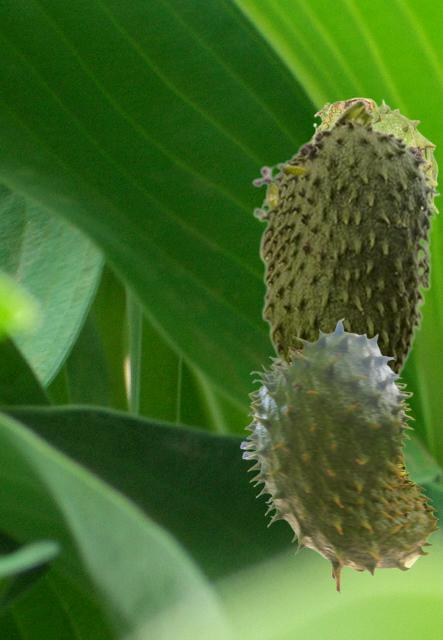guyabano: (242, 318, 439, 593), (252, 98, 440, 382), (240, 356, 426, 580), (311, 97, 439, 214)
